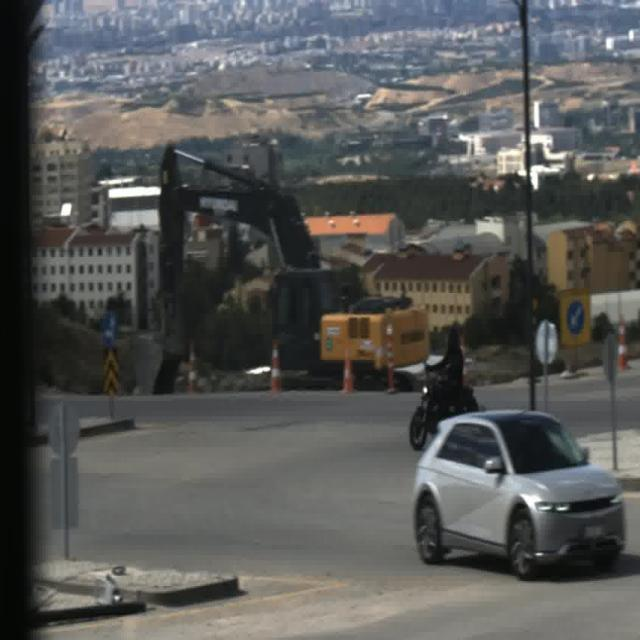Car: (412, 414, 625, 578)
Motorcycle: (408, 332, 478, 448)
